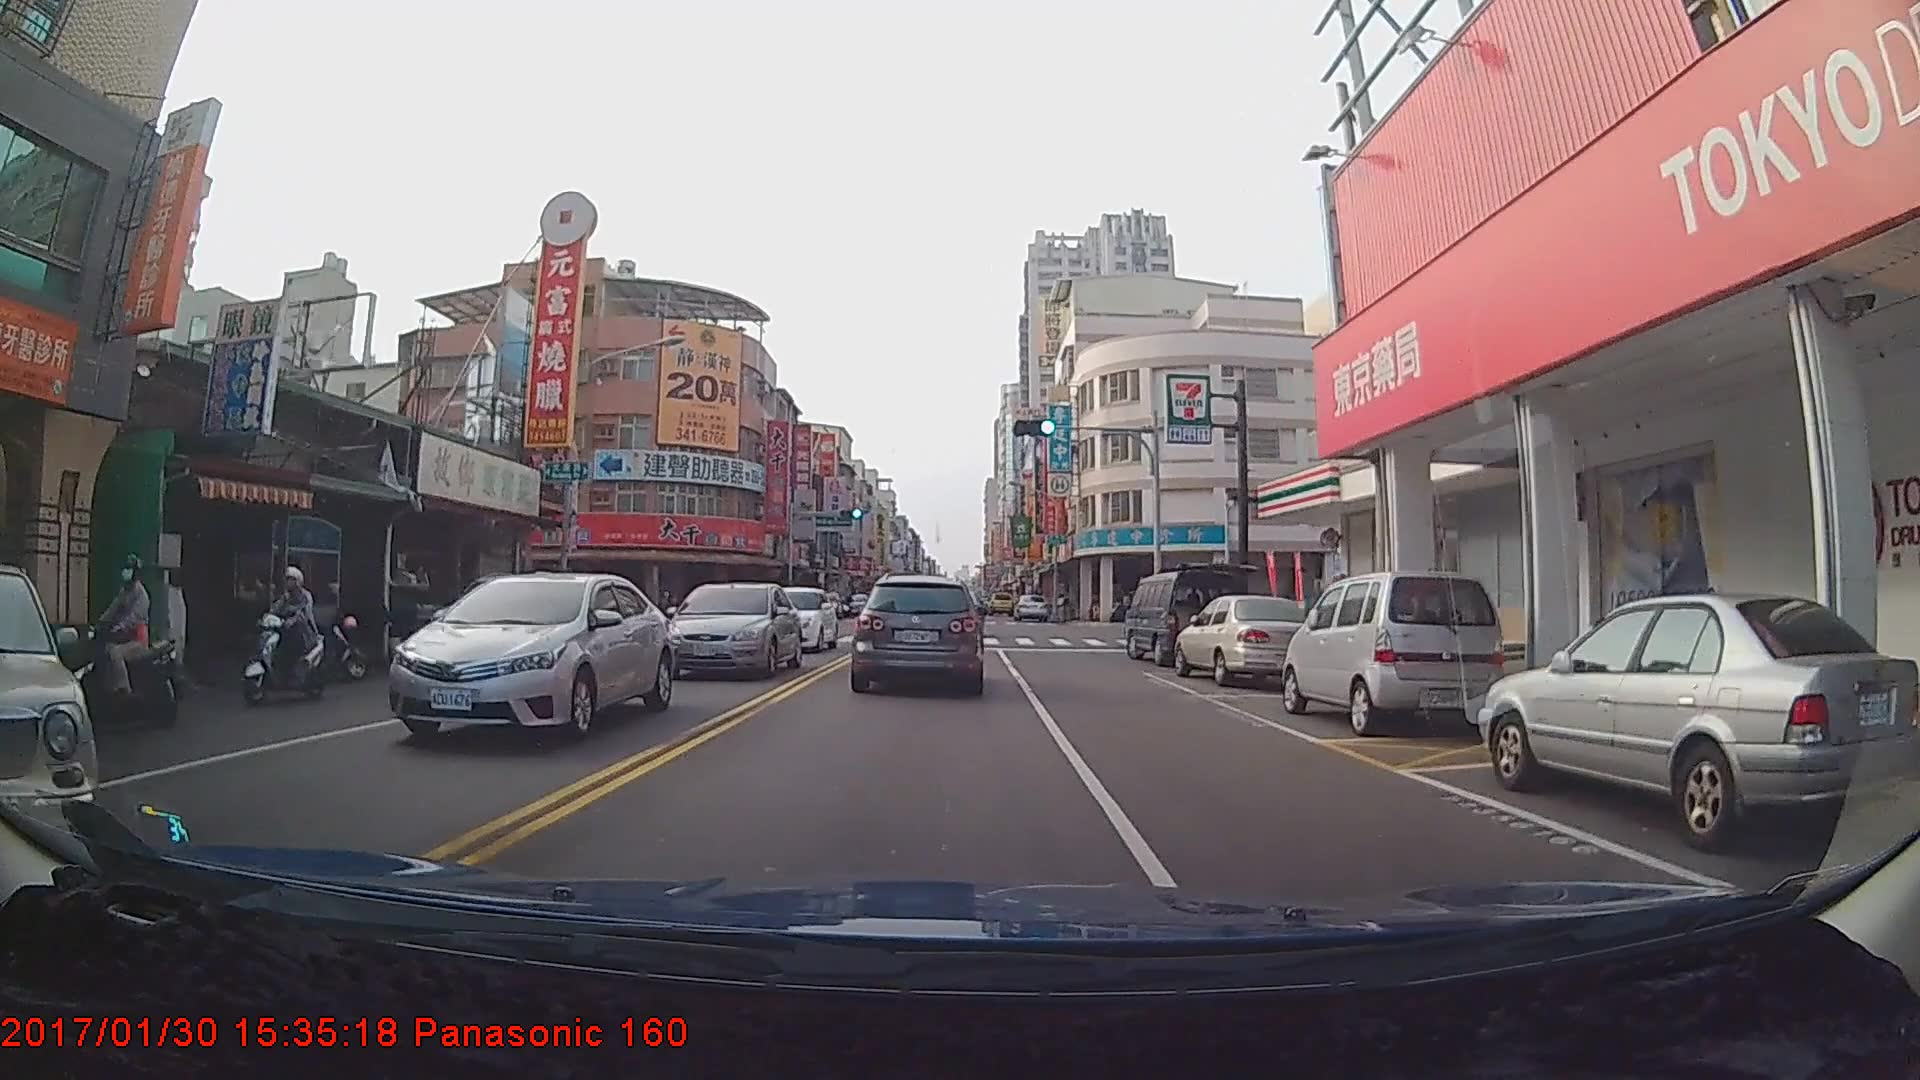rider: (73, 552, 186, 729), (234, 559, 334, 702)
vehicle: (1482, 590, 1898, 848), (379, 570, 677, 757), (1284, 569, 1500, 734), (0, 555, 99, 873), (855, 573, 982, 693), (658, 581, 801, 681), (1176, 594, 1313, 685), (1124, 572, 1246, 662), (750, 584, 840, 651), (1010, 593, 1049, 621), (987, 592, 1014, 615)
